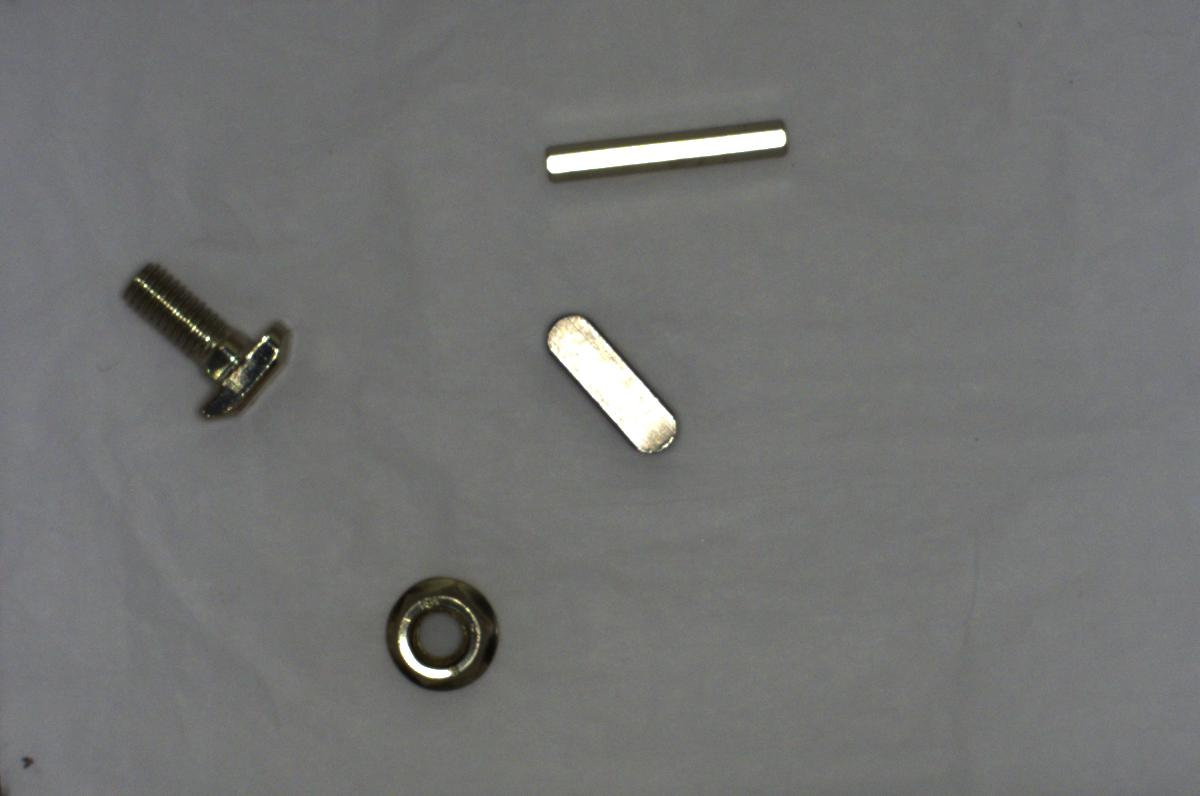Double hexagonal column: (532, 112, 799, 187)
Flange nut: (368, 568, 507, 692)
Keybar: (540, 307, 690, 461)
T-shaped screw: (118, 263, 294, 421)
